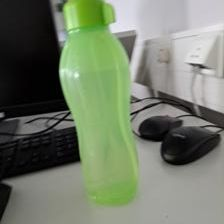bottle: (57, 0, 140, 208)
